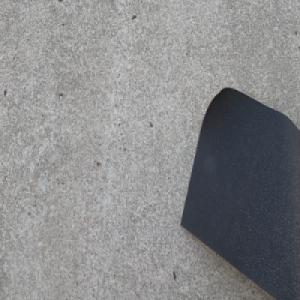PaintChip: (179, 84, 300, 300)
